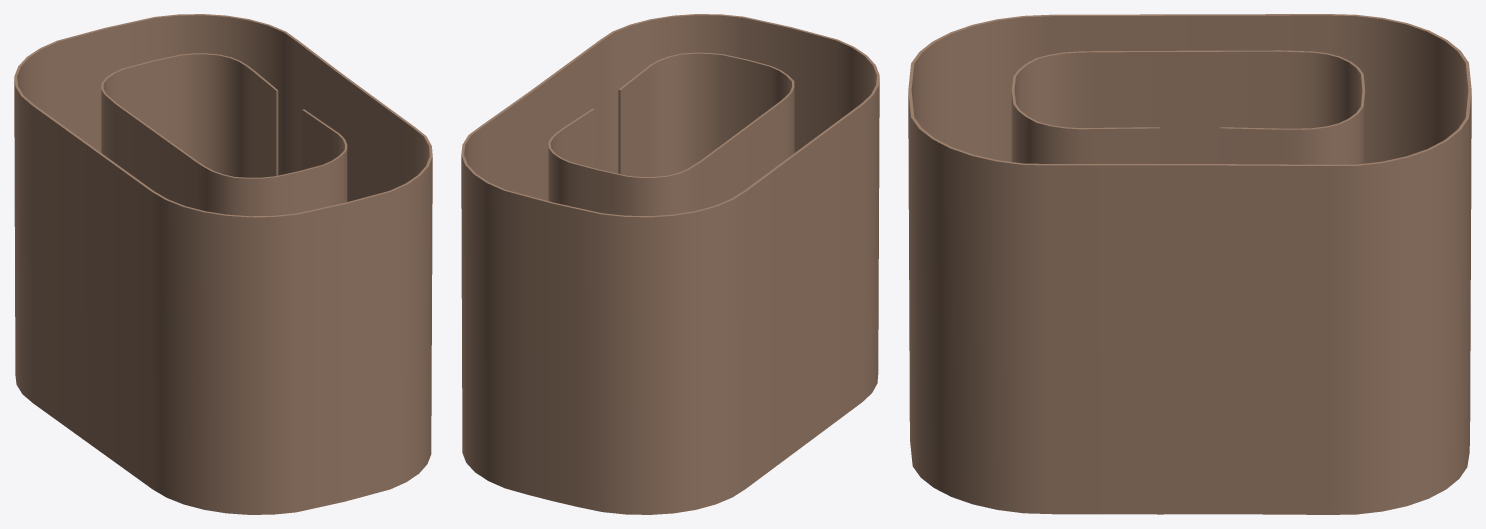
The model's file is Conveyor_Collider.fbx.
3 renders of one model, left to right at view 1: azimuth 30°, elevation 25°; view 2: azimuth 150°, elevation 25°; view 3: azimuth 270°, elevation 25°, orthographic. The views are drawn at different scales.
Visible parts, largest first — view 1: Conveyor_Collider; view 2: Conveyor_Collider; view 3: Conveyor_Collider.
Boxes of the visible parts, <box> form: Conveyor_Collider: <box>14,14,432,514</box>; Conveyor_Collider: <box>461,14,879,514</box>; Conveyor_Collider: <box>908,14,1471,514</box>.
Bounding box in the file's own units: 629 × 676 × 984.
